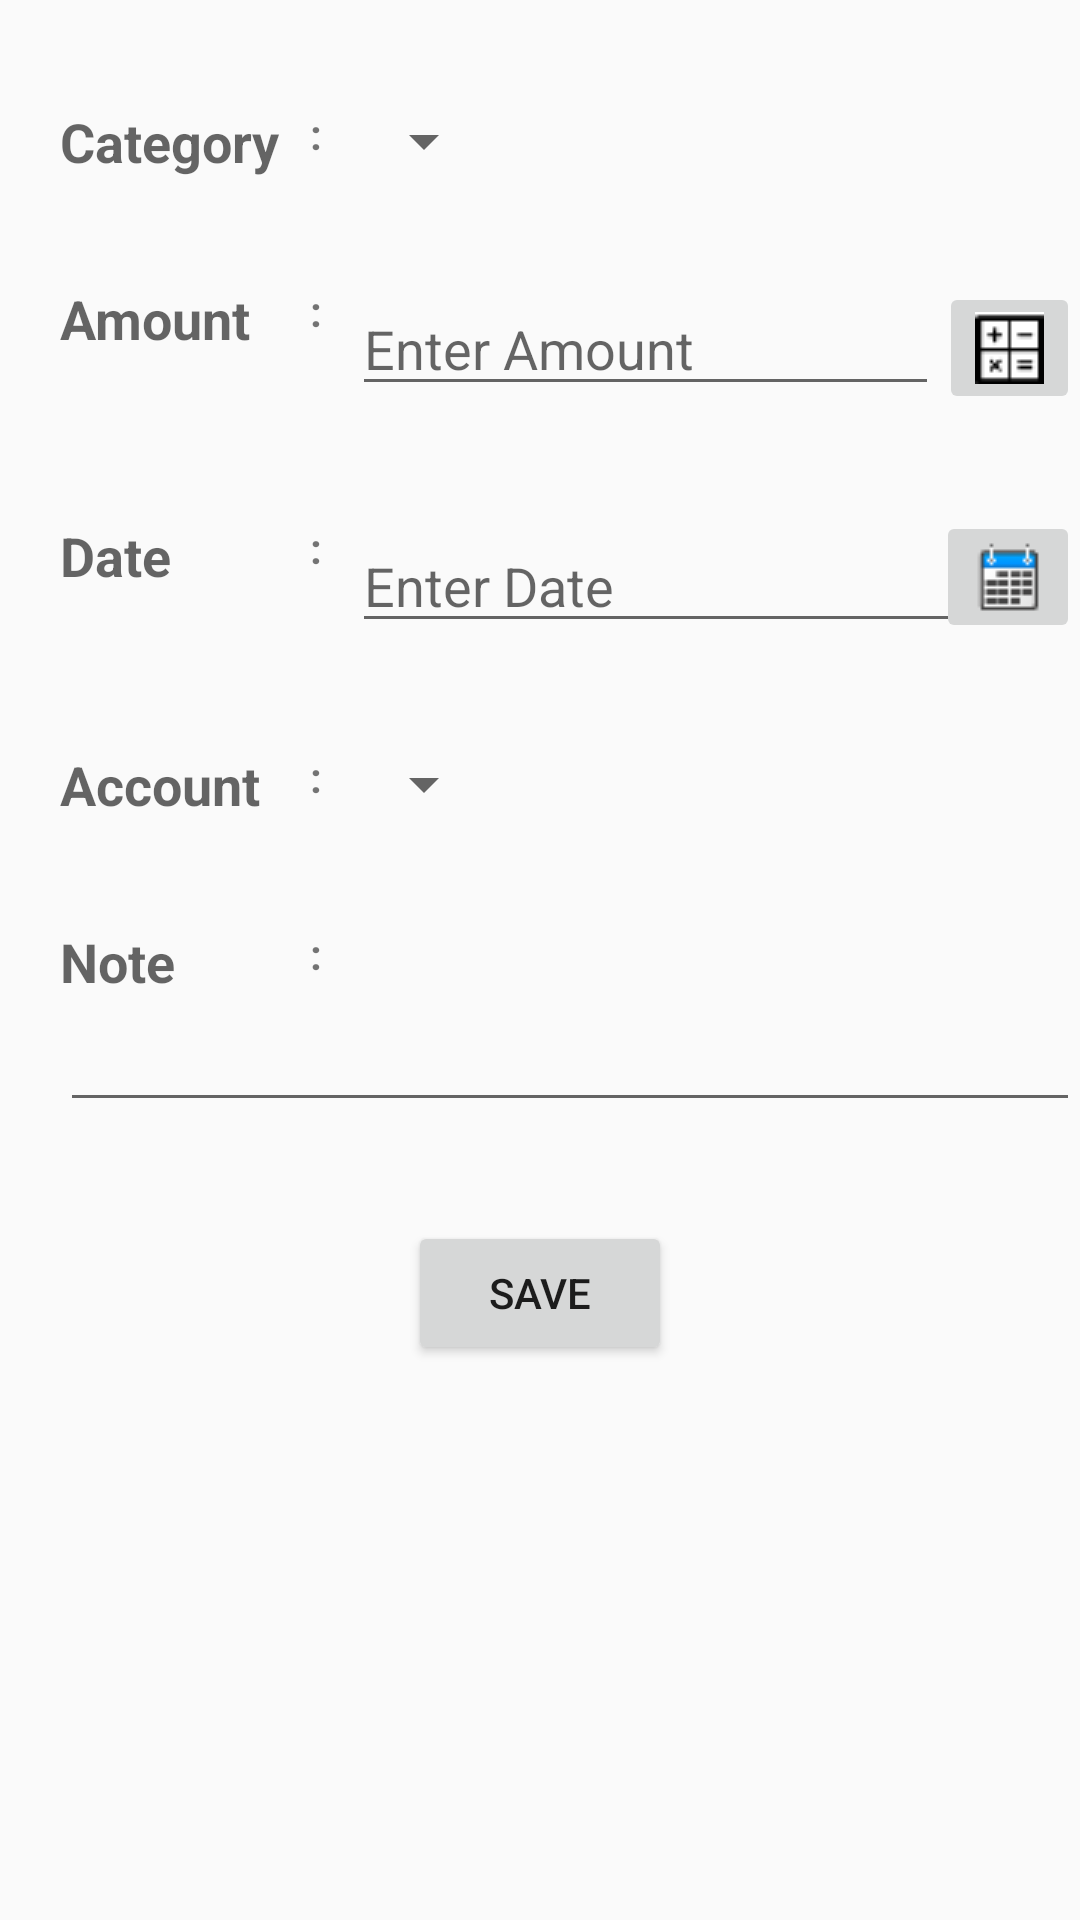

Screen size 1080x1920. Icon name, then its box in pixels as rect(x1, y1, x2, y2):
calculator: rect(951, 300, 1068, 396)
Date Picker: rect(936, 529, 1068, 625)
